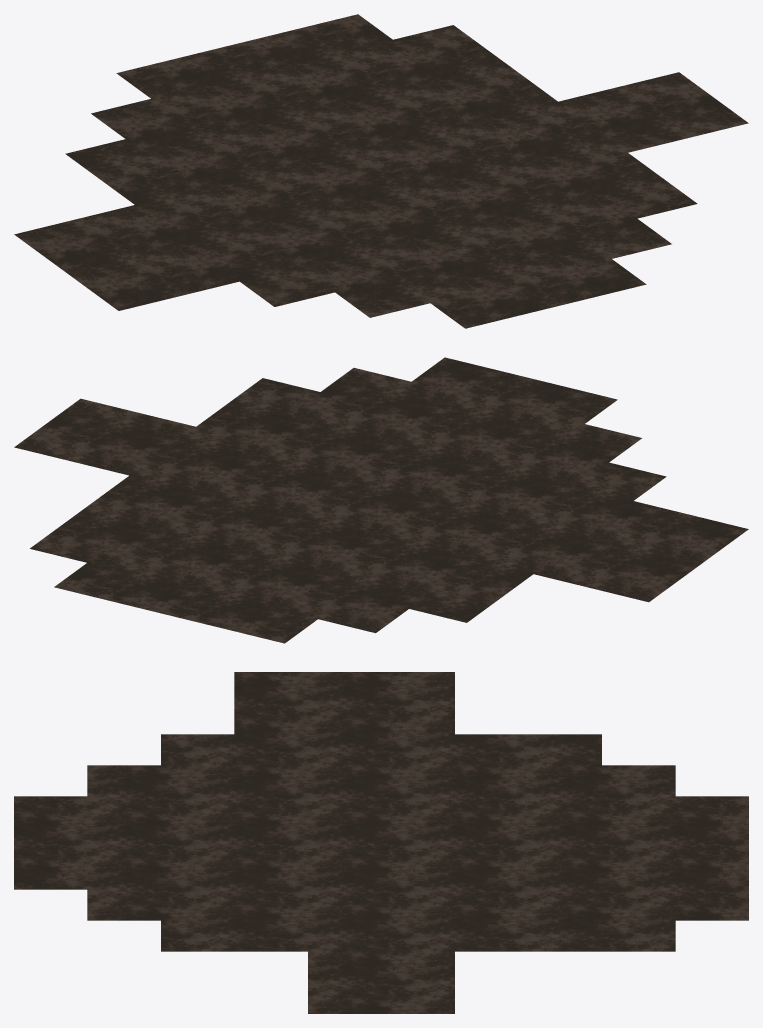
File: floor_-2_-10.glb
3 renders of one model, top to bottom at view 1: azimuth 30°, elevation 25°; view 2: azimuth 150°, elevation 25°; view 3: azimuth 270°, elevation 25°, orthographic. The views are drawn at different scales.
Visible parts, largest first — view 1: floor_-2_-10; view 2: floor_-2_-10; view 3: floor_-2_-10.
Part boxes in pixels (x1,y1,x2,y2): floor_-2_-10: (14, 14, 748, 328); floor_-2_-10: (14, 357, 748, 643); floor_-2_-10: (14, 672, 748, 1013).
Bounding box in the file's own units: 44 × 0 × 40.
Materials: 1 (1 with a texture image).
